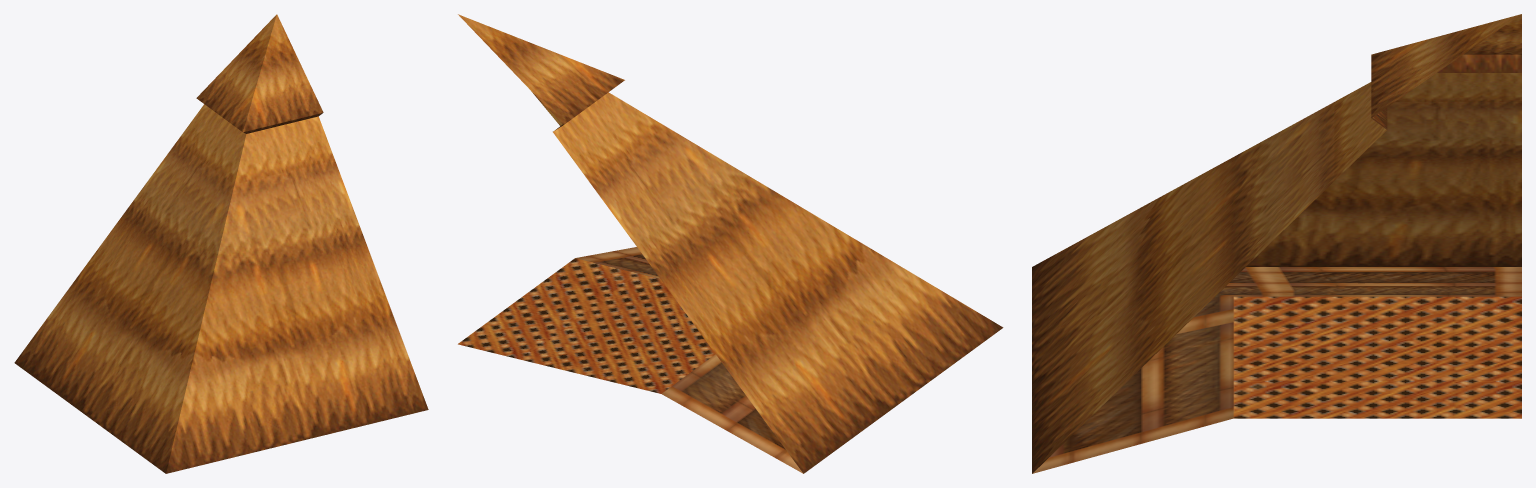
File: Kit_RoofCorner_01.FBX
3 views of the same model, side by side, from view 1: azimuth 30°, elevation 25°; view 2: azimuth 150°, elevation 25°; view 3: azimuth 270°, elevation 25° (orthographic). The views are drawn at different scales.
Visible parts, largest first — view 1: Kit_RoofCorner_01; view 2: Kit_RoofCorner_01; view 3: Kit_RoofCorner_01.
Boxes of the visible parts, <box> form: Kit_RoofCorner_01: <box>14,14,428,473</box>; Kit_RoofCorner_01: <box>458,14,1003,473</box>; Kit_RoofCorner_01: <box>1032,14,1521,473</box>.
Bounding box in the file's own units: 2.32 × 2.32 × 2.41.
